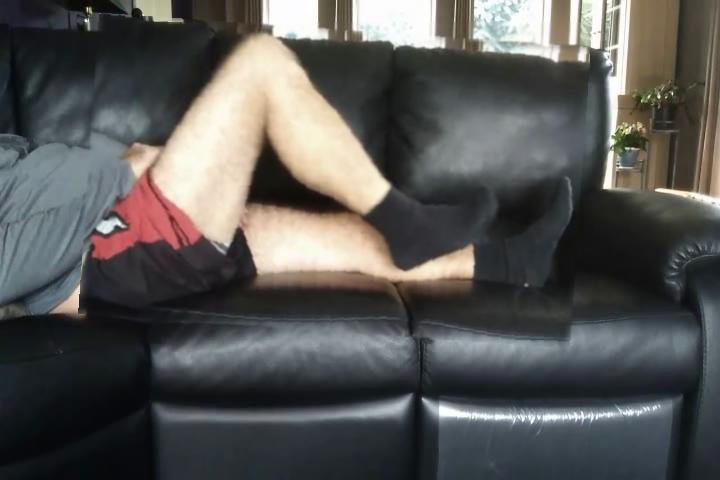lower_body: (84, 23, 587, 341)
